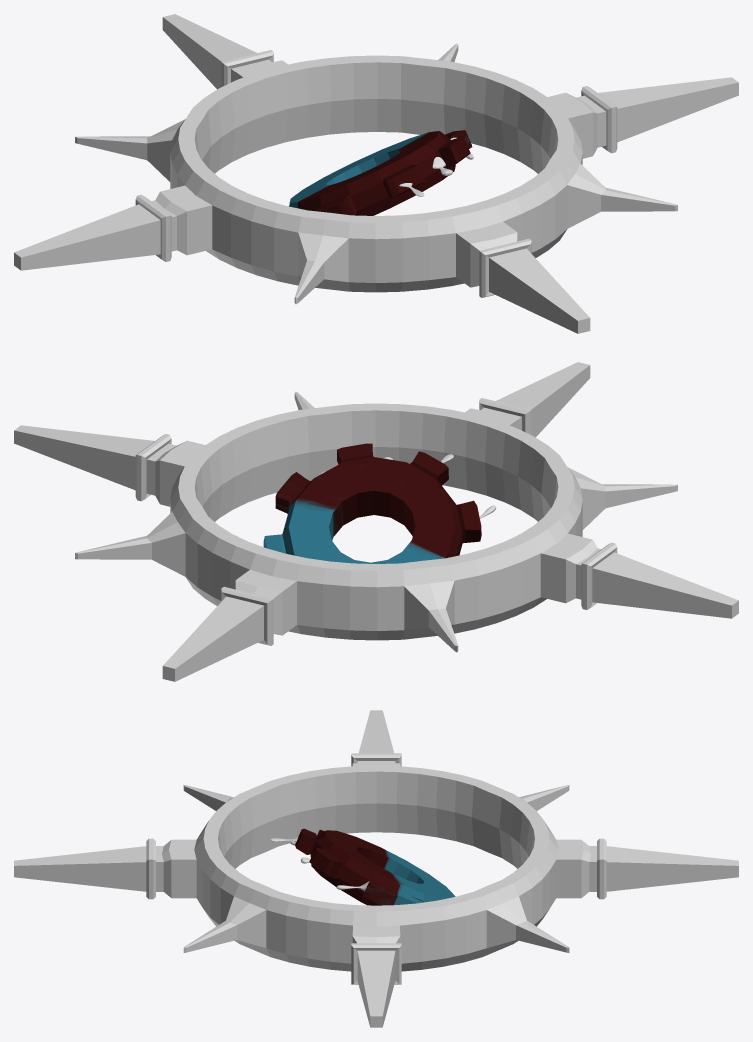
File: scrapVamp 2.fbx
3 views of the same model, one above another, from view 1: azimuth 30°, elevation 25°; view 2: azimuth 150°, elevation 25°; view 3: azimuth 270°, elevation 25° (orthographic). The views are drawn at different scales.
Parts seen in each view (by area): view 1: Brand, Gear; view 2: Brand, Gear; view 3: Brand, Gear.
Part boxes in pixels (x1,y1,x2,y2): Brand: (14,14,738,333); Gear: (289,130,472,215); Brand: (14,362,738,681); Gear: (263,443,481,563); Brand: (14,710,738,1027); Gear: (295,828,455,905).
Size of the model in its own units: 468 by 71.52 by 469.
